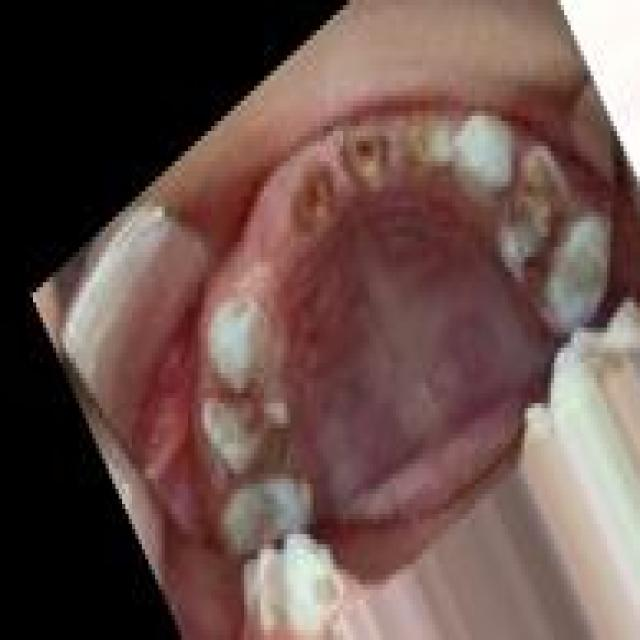caries: (489, 147, 574, 280), (281, 155, 342, 247), (339, 119, 395, 202), (398, 110, 454, 188)
